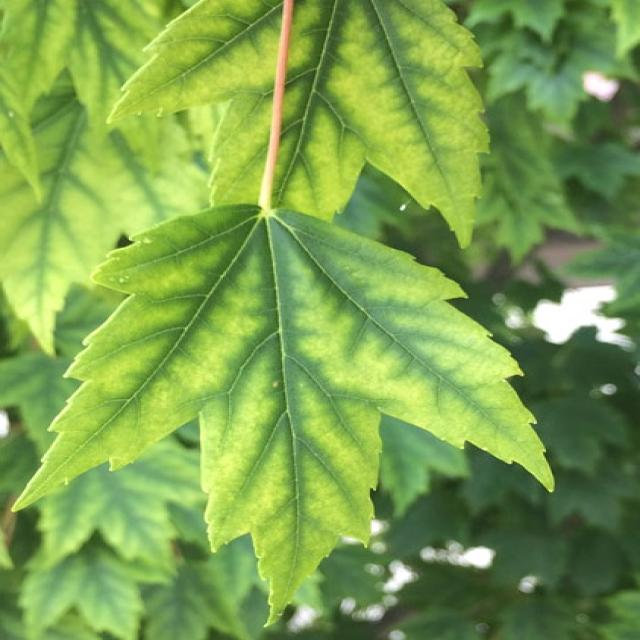Chlorosis: (0, 0, 581, 573)
